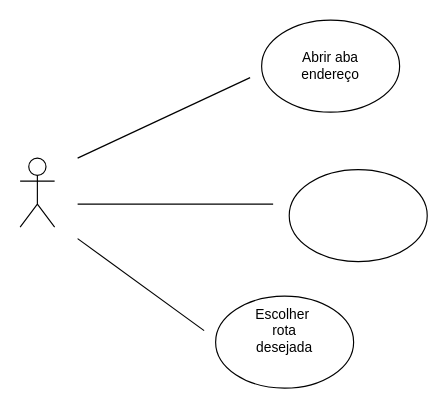
This 447x408 diagram has some shape labels left out. The shapes that lost their labels are listed below. From the top down, each one's centre as x and y in pixels, then its label:
pixel 37 192: Actor
pixel 357 215: Digitar endereço destino
